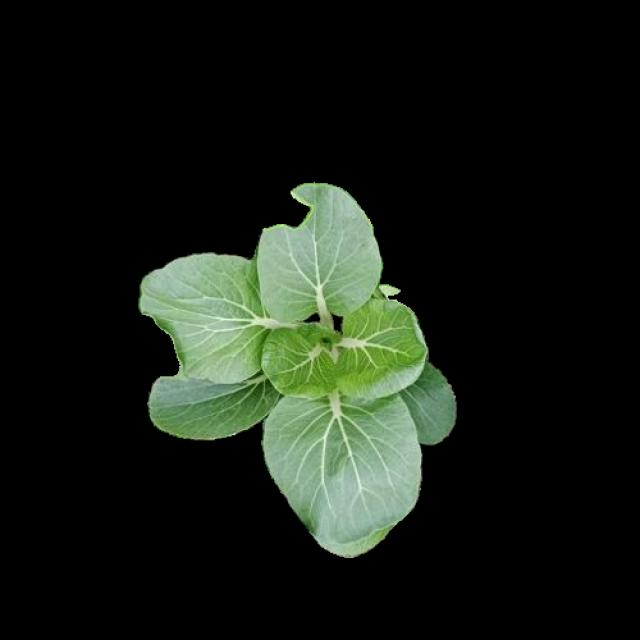not-mature: (138, 185, 454, 554)
unhealthy: (259, 183, 385, 325)
